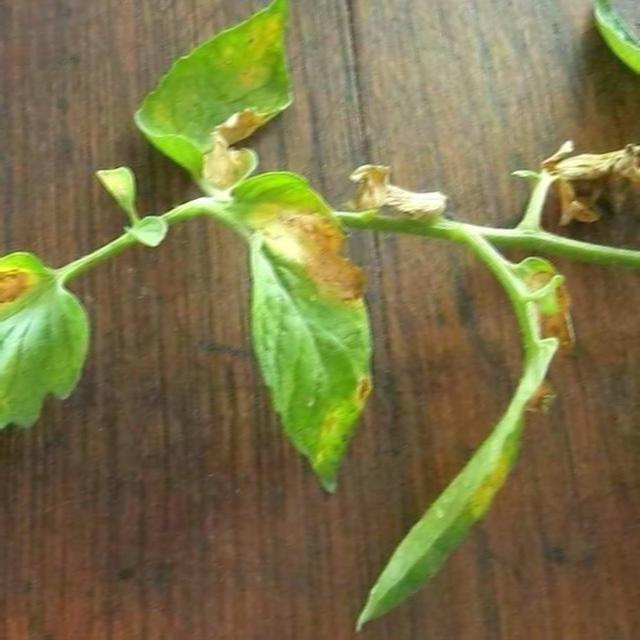Tomato Early blight leaf: (222, 159, 378, 508), (0, 255, 92, 509)
